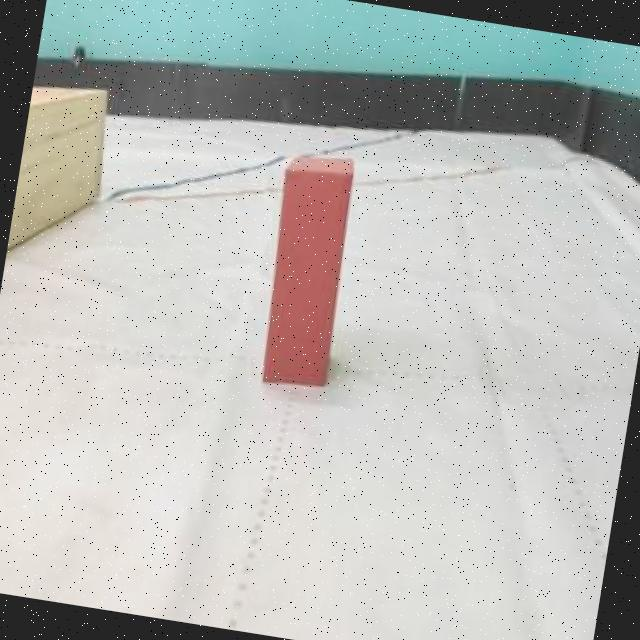redbox: (250, 145, 364, 396)
